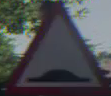Speed Breaker ahead: (19, 9, 92, 87)
